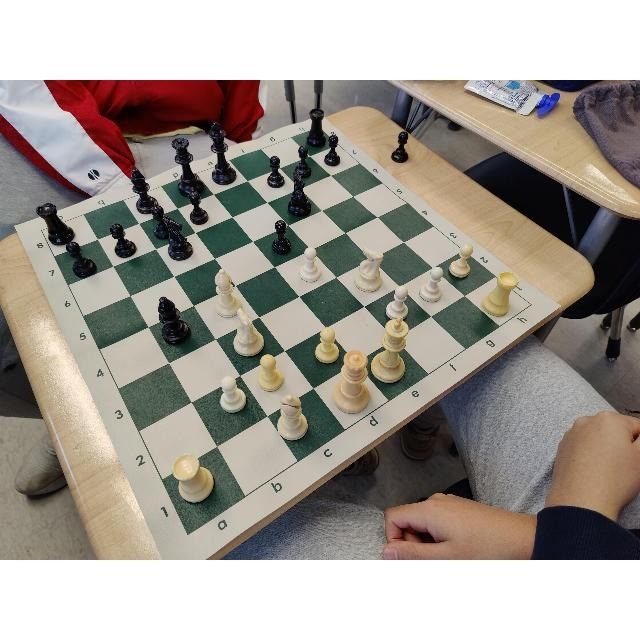black-bishop: (158, 296, 192, 346), (131, 167, 157, 213)
black-king: (207, 122, 236, 186)
black-knight: (164, 217, 194, 261), (287, 171, 312, 216)
black-pawn: (65, 242, 97, 278), (110, 224, 136, 258), (272, 219, 292, 254), (189, 191, 209, 224), (151, 205, 169, 240), (267, 155, 285, 188), (296, 145, 312, 178), (324, 135, 340, 167)
black-queen: (170, 138, 204, 198)
black-rook: (36, 203, 74, 245), (306, 109, 326, 147)
white-bishop: (277, 392, 309, 441), (215, 268, 241, 317)
white-king: (370, 316, 408, 383)
white-knight: (233, 309, 265, 357), (354, 247, 383, 292)
white-pawn: (258, 354, 284, 392), (220, 377, 247, 413), (314, 327, 339, 363), (420, 267, 444, 303), (448, 244, 473, 278), (385, 286, 408, 320), (300, 246, 321, 282)
white-queen: (333, 349, 371, 414)
white-rook: (172, 452, 215, 504), (483, 271, 519, 317)
